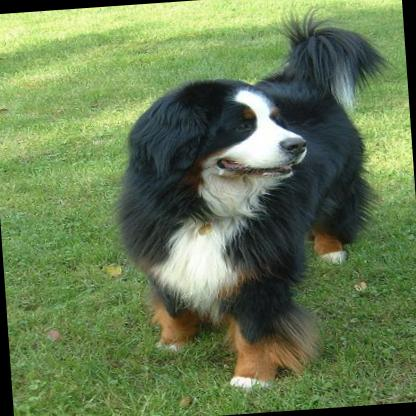Bernese_mountain_dog: (104, 4, 401, 398)
